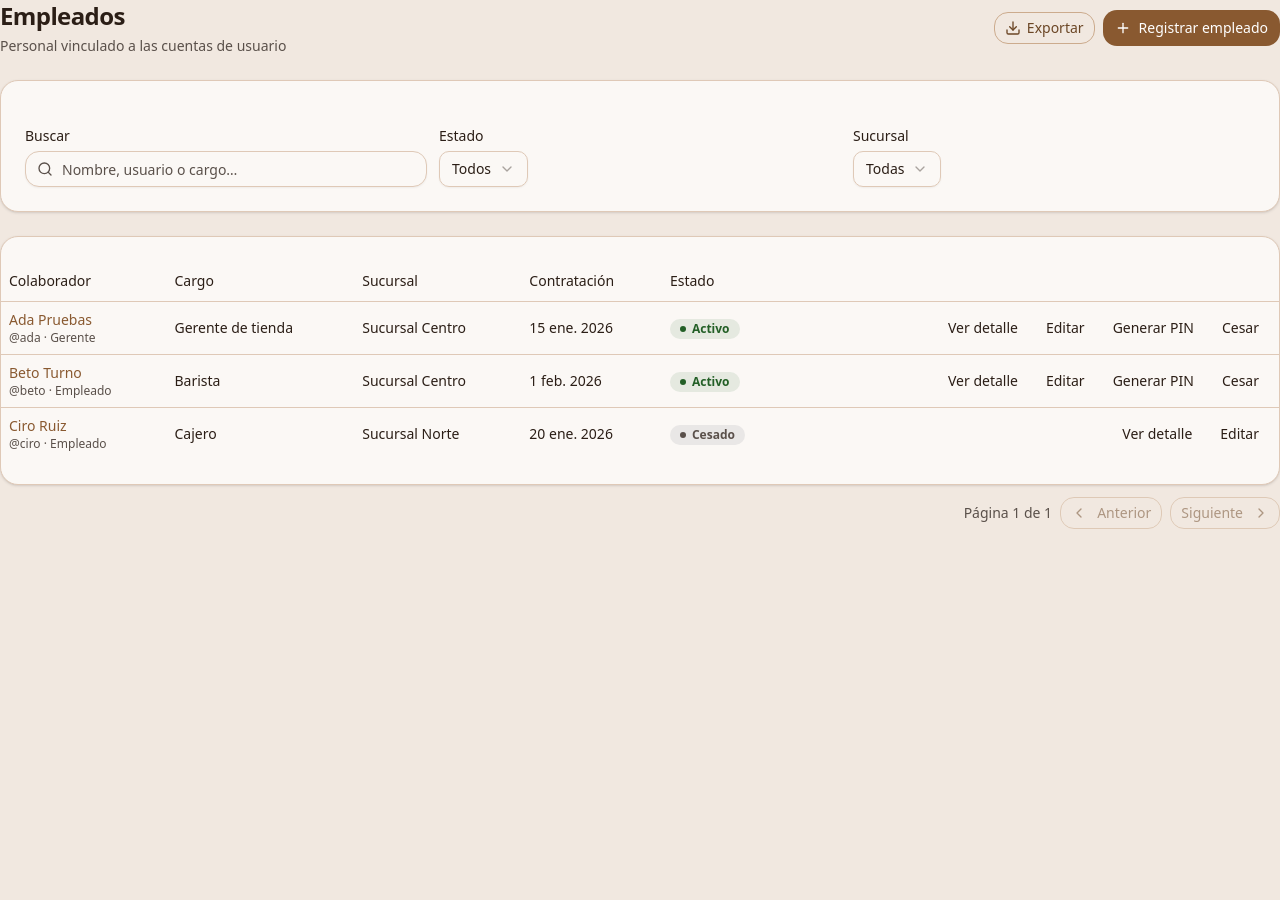
Test case: Gestión de empleados › atenúa en el selector a los usuarios ya registrados como empleados
Check: the link "Beto Turno" is shown, box x1=9 y1=362 x2=82 y2=382
Click the button "Registrar empleado". click: (1191,28)
box: x1=1103 y1=10 x2=1279 y2=46
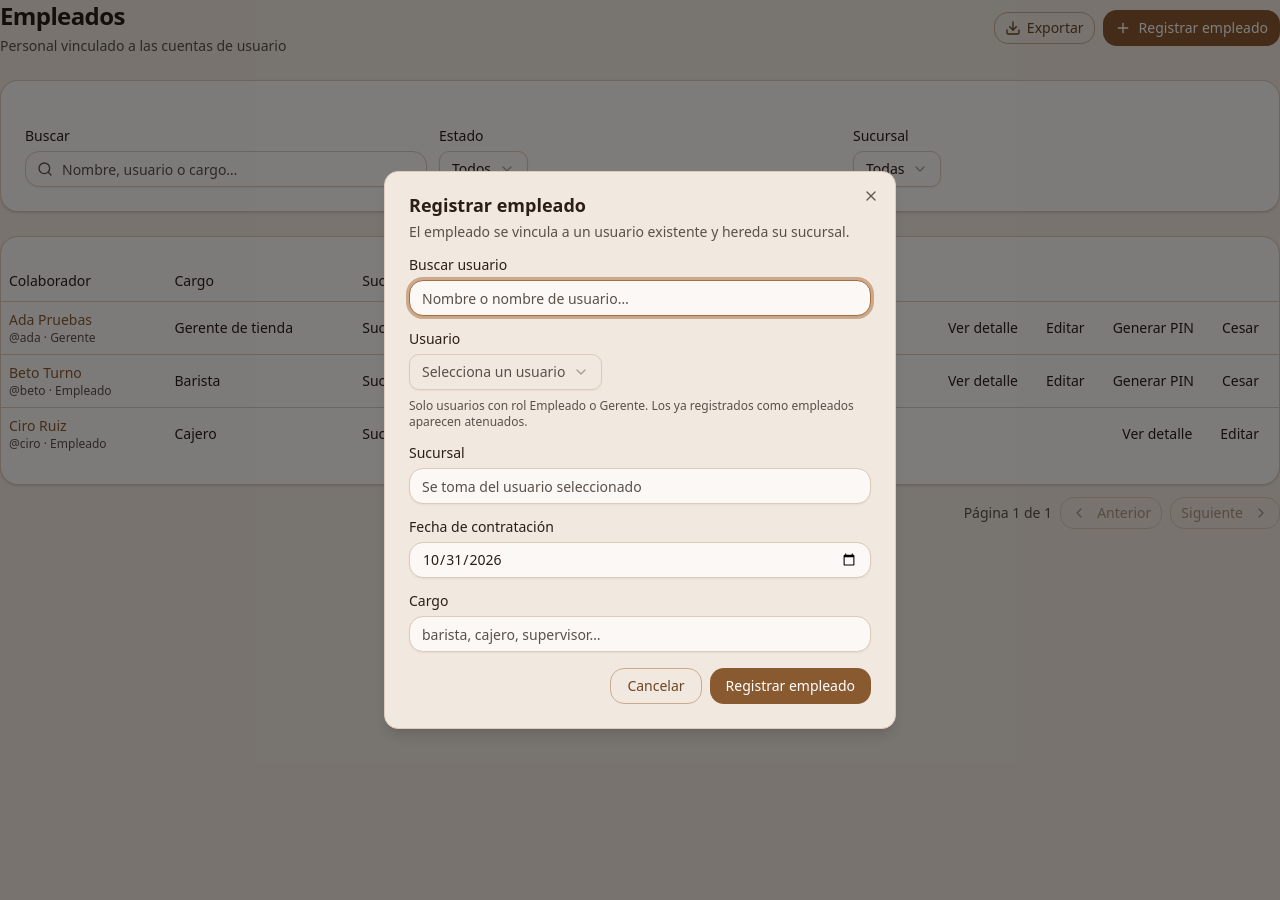
Click the dropdown labelled "usuario". click: (506,372)
box: x1=409 y1=354 x2=602 y2=390
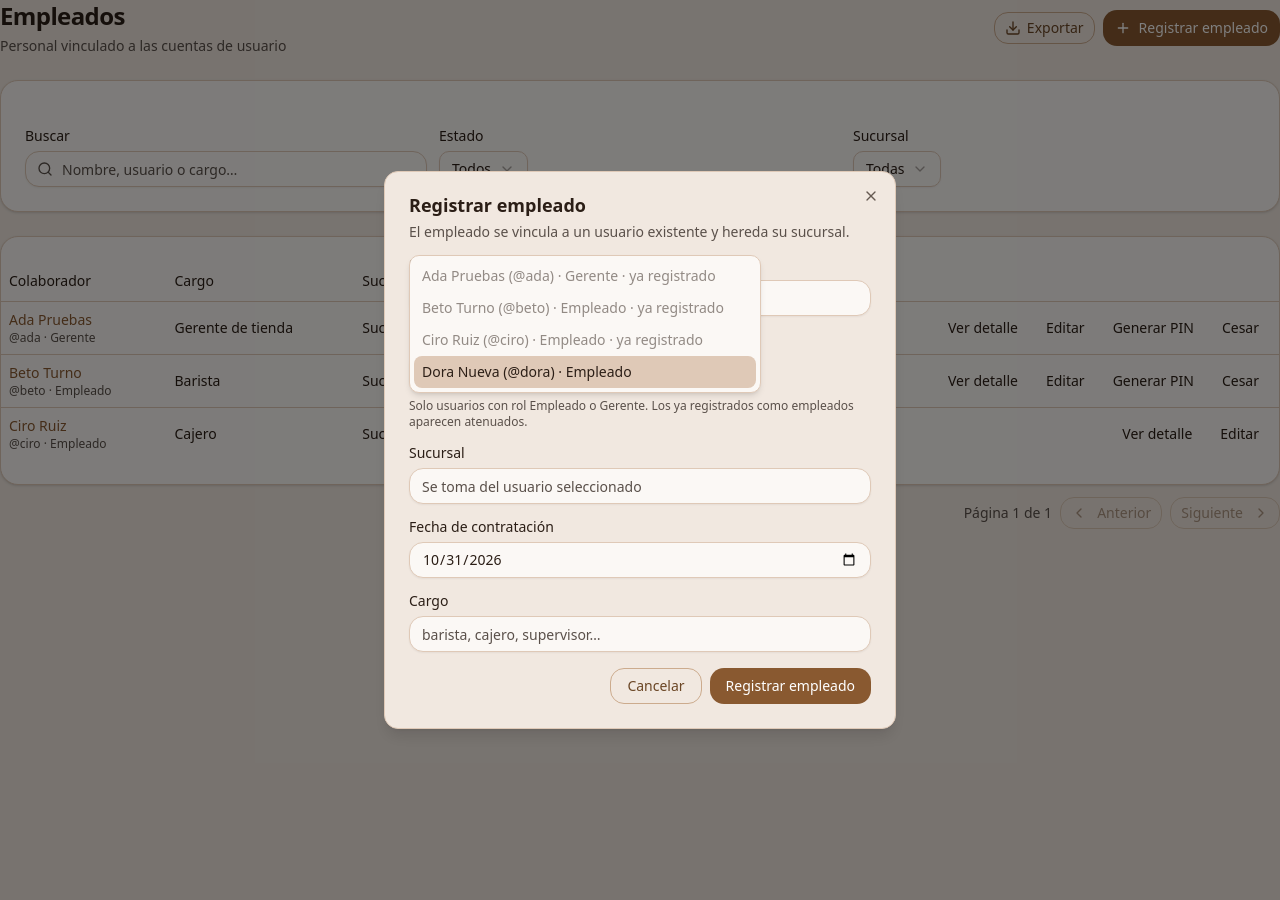
Check: the option "Ada Pruebas (@ada) · Gerente · ya registrado" is shown, box x1=422 y1=266 x2=716 y2=285
